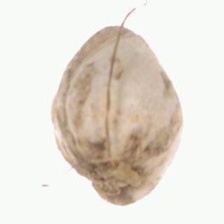L1: (76, 168, 145, 205), (99, 24, 142, 38)
L2: (49, 25, 183, 205)
